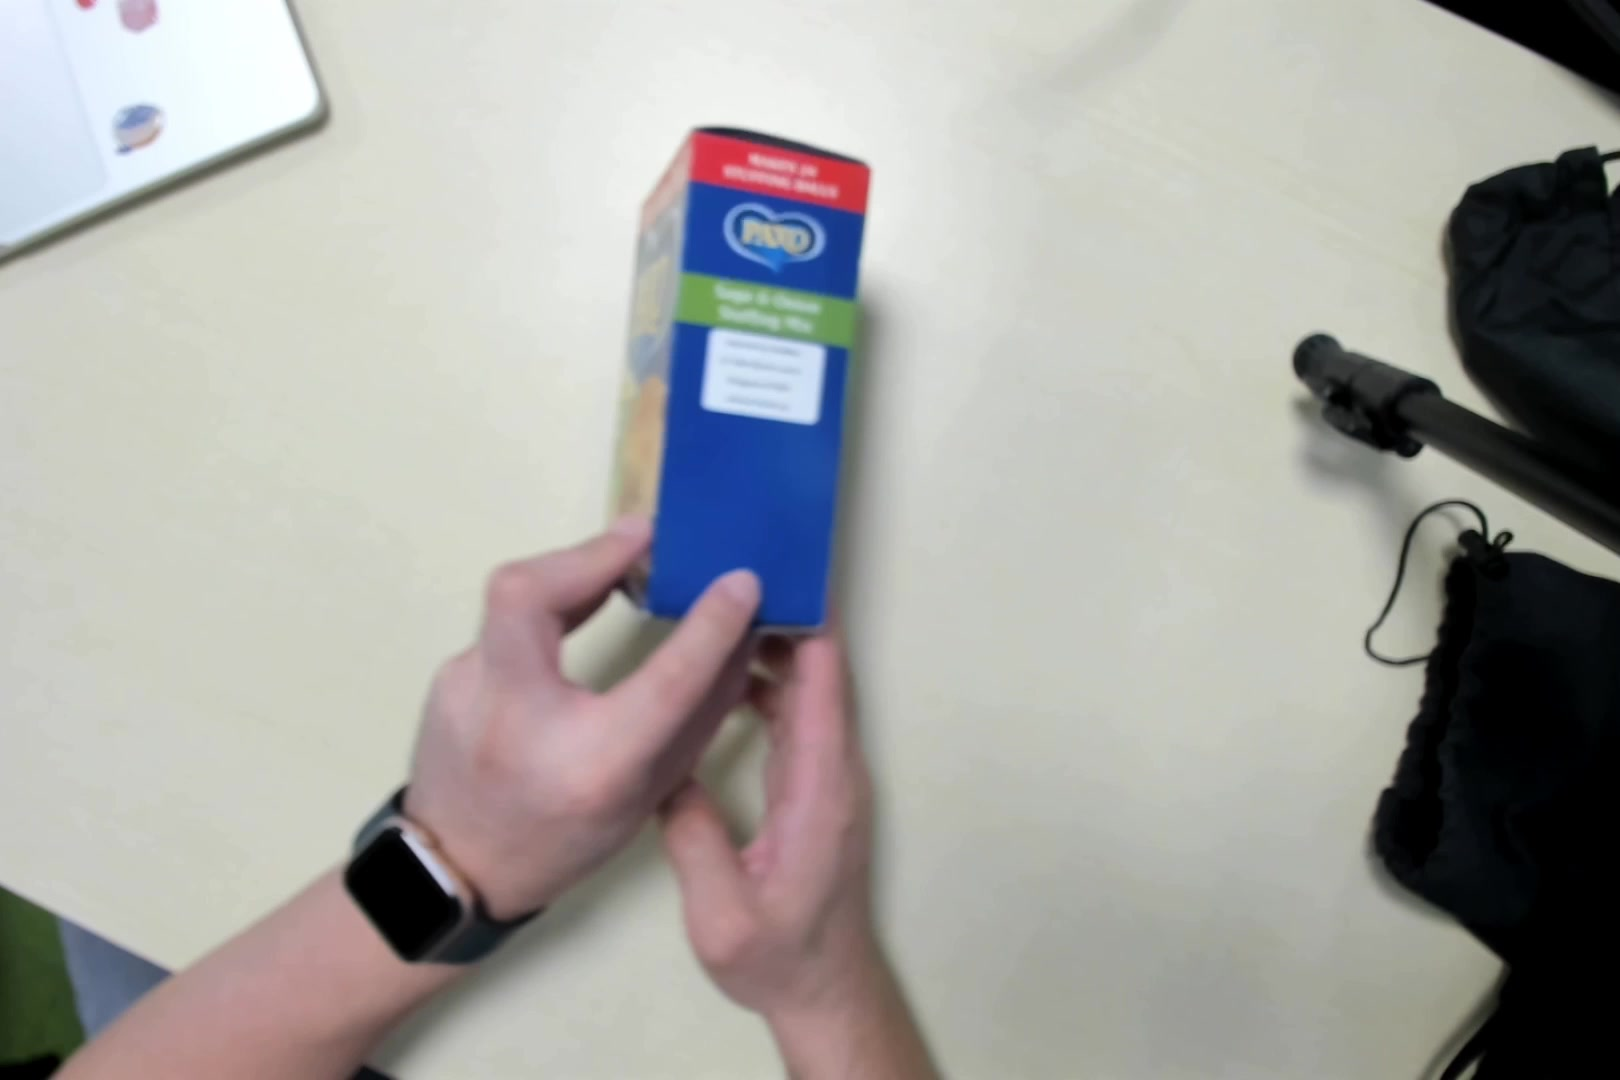OtherBakingNeeds_300-399g_NonHalal_NonHealthy: (609, 130, 875, 632)
